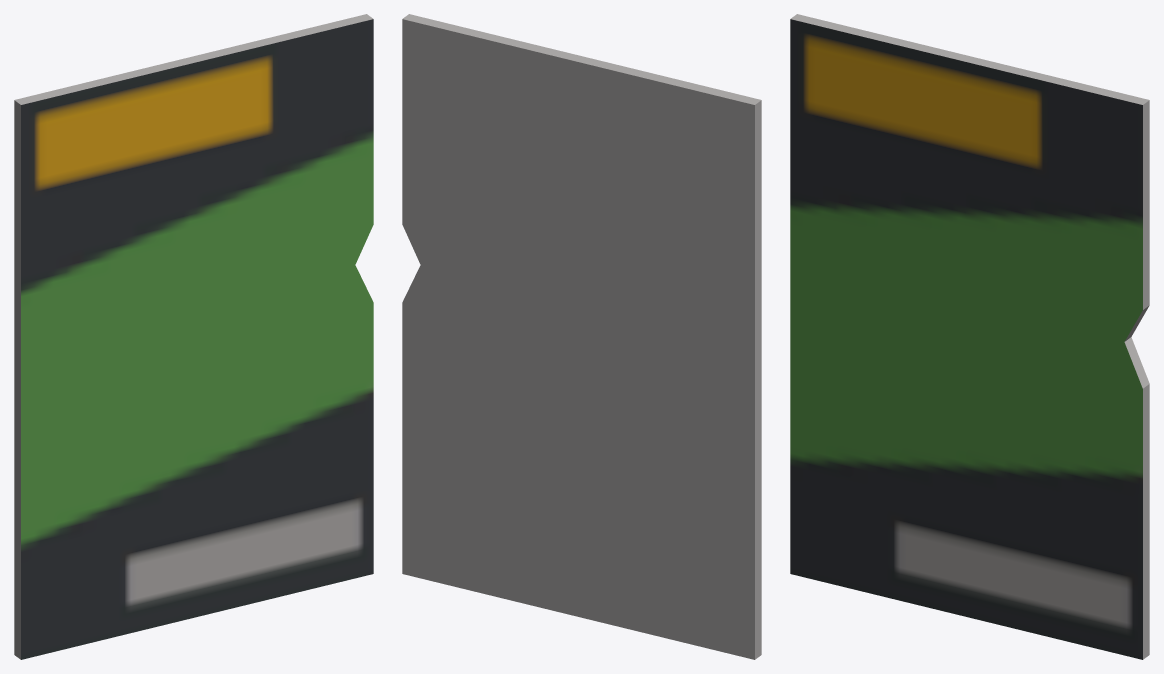
File: SM_Prop_Poster_04_624.obj
3 views of the same model, side by side, from view 1: azimuth 30°, elevation 25°; view 2: azimuth 150°, elevation 25°; view 3: azimuth 330°, elevation 25° (orthographic).
Parts seen in each view (by area): view 1: SM_Prop_Poster_04_0; view 2: SM_Prop_Poster_04_0; view 3: SM_Prop_Poster_04_0.
Part boxes in pixels (bbox=[...]): SM_Prop_Poster_04_0: bbox=[14, 14, 373, 659]; SM_Prop_Poster_04_0: bbox=[402, 14, 761, 659]; SM_Prop_Poster_04_0: bbox=[790, 14, 1149, 659].
Bounding box in the file's own units: 0.2939 × 0.4419 × 0.01.
1 material, 1 textured.
